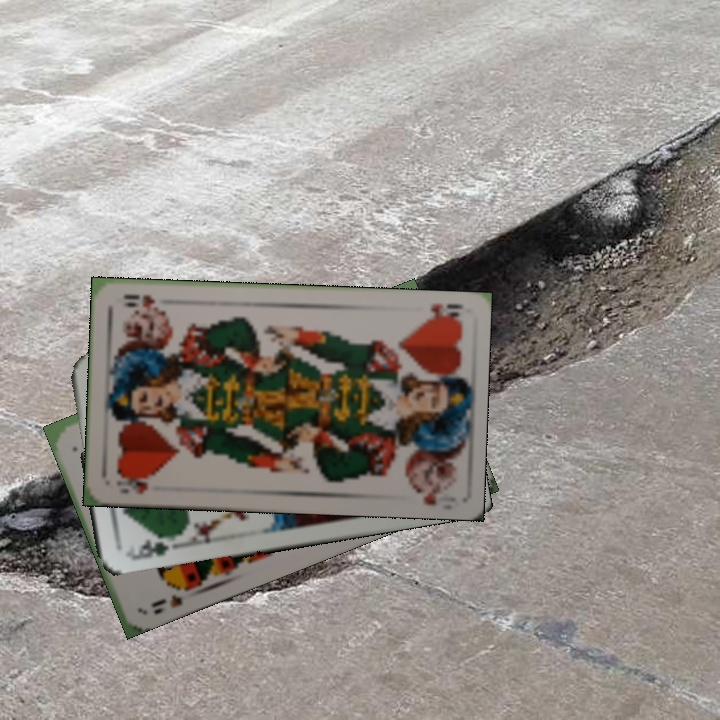GK: (121, 533, 177, 563)
HO: (417, 299, 465, 324), (111, 471, 152, 496)
S9: (147, 578, 197, 611)
